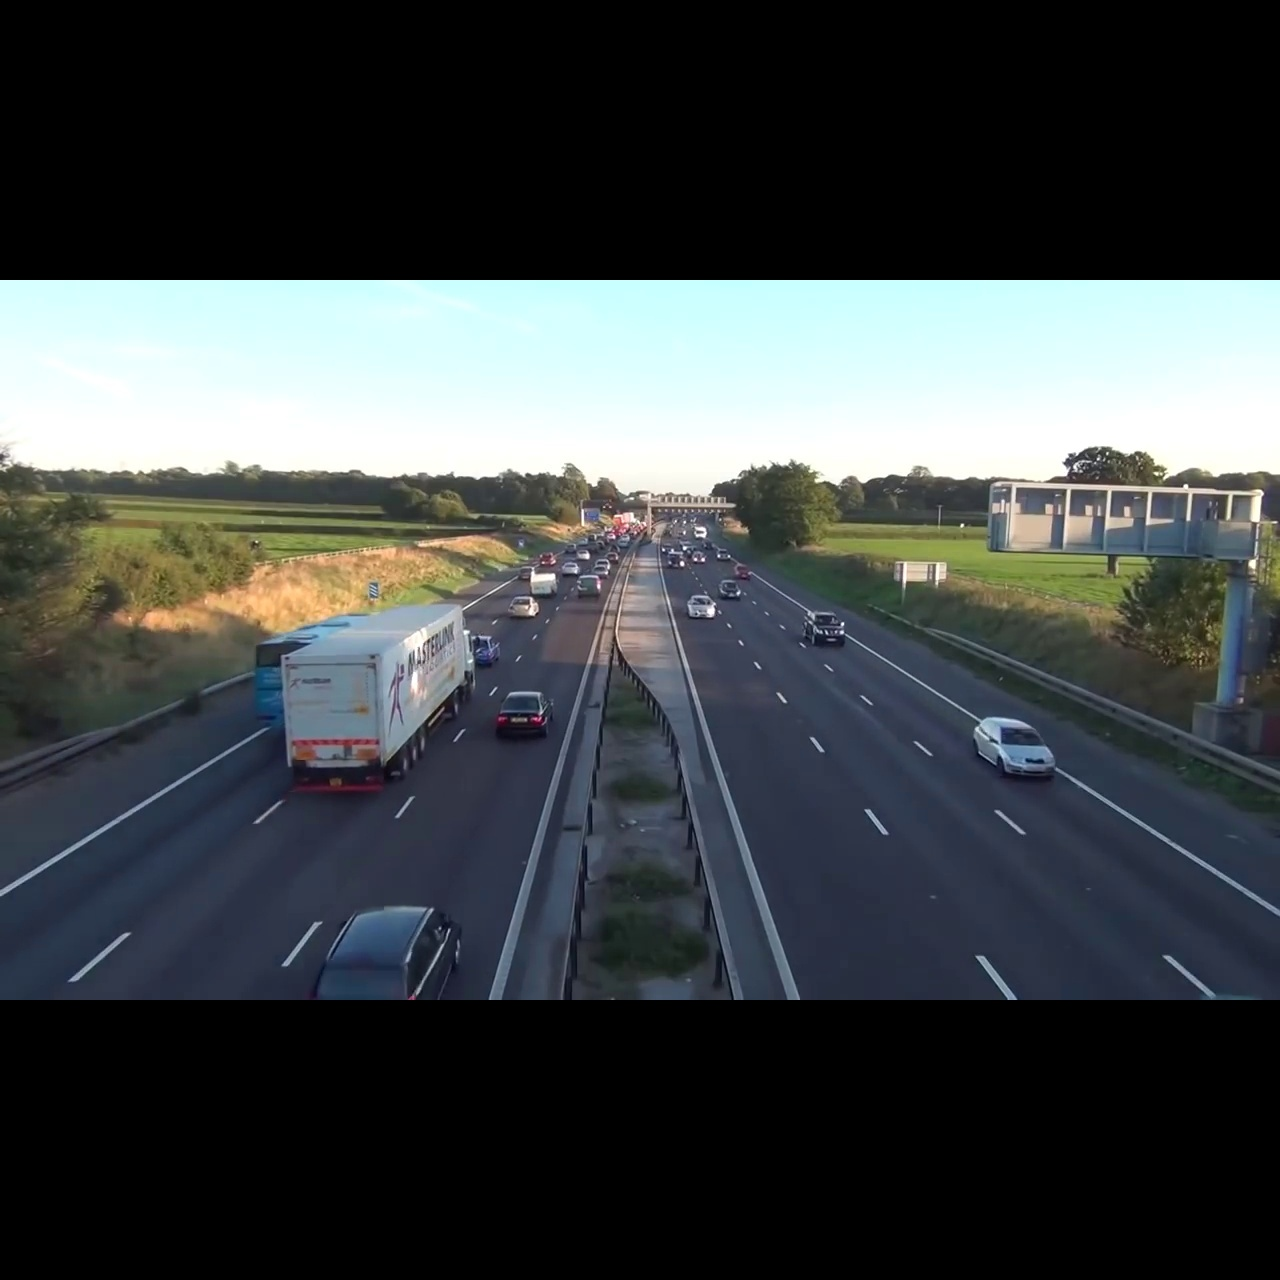vehicle: (280, 604, 474, 795), (315, 897, 474, 1000), (964, 712, 1058, 784), (493, 686, 557, 745), (801, 607, 850, 647), (472, 629, 501, 669), (685, 593, 720, 621), (505, 593, 540, 619), (529, 572, 559, 599), (719, 578, 744, 602), (577, 576, 602, 599), (731, 561, 753, 581)
